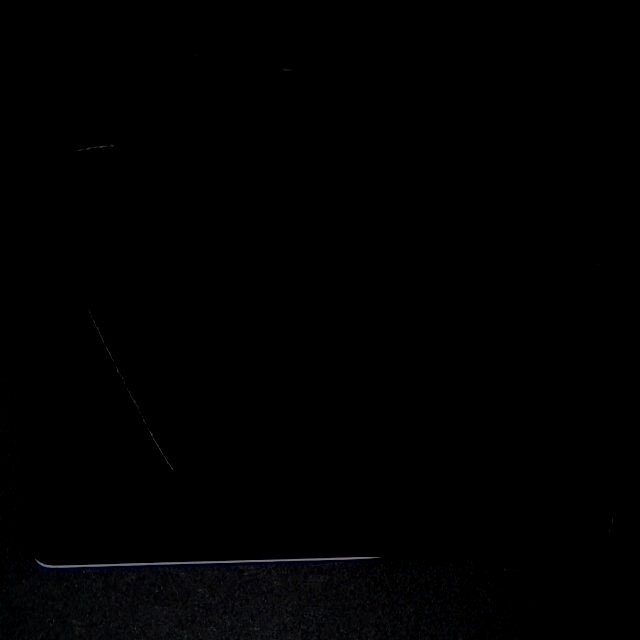scratch: (147, 347, 235, 629), (94, 78, 164, 202)
